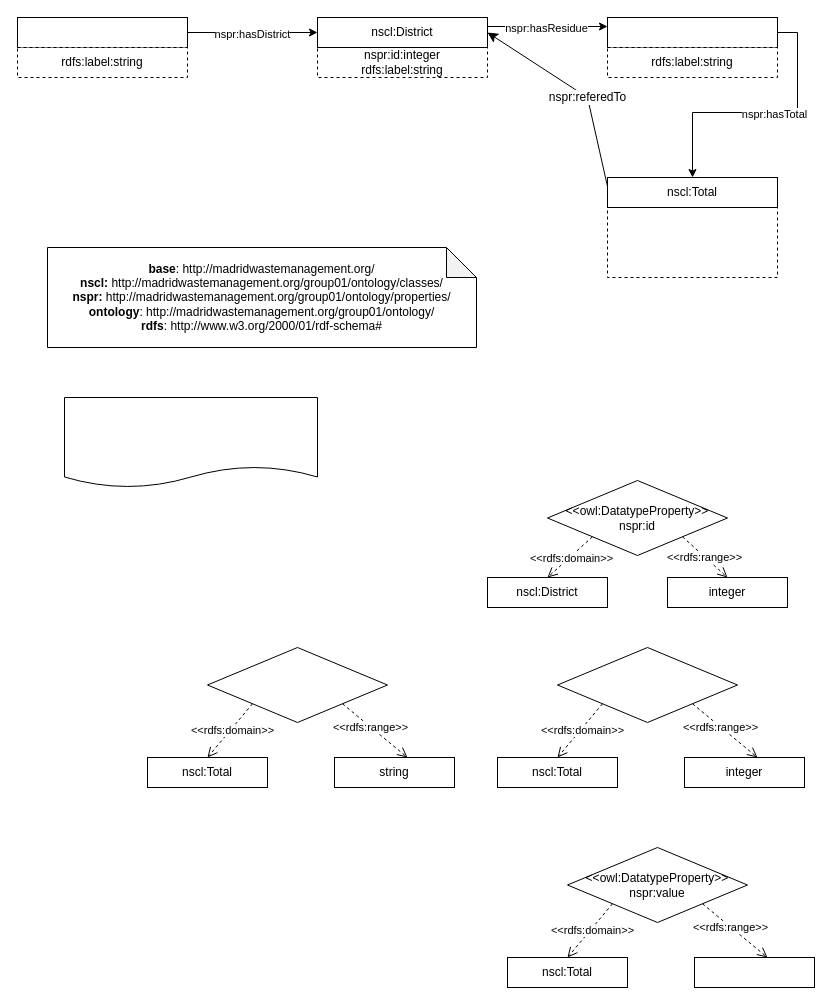
The diagram is 832 pixels wide and 1005 high, and some of its shapes have lost their labels. The shapes that lost their labels are listed below. From the top down, each one's centre as x and y in pixels, then its label:
At point 102,32: "nscl:Zone".
At point 692,32: "nscl:WasteType".
At point 692,242: "nspr:year:integer nspr:month:string nspr:value:float rdfs:label:string".
At point 191,442: "dc:creator: group01 owl:versionInfo: 0.0.1 dc:title: Madrid Waste Management".
At point 297,684: "<<owl:DatatypeProperty>> nspr:month".
At point 647,684: "<<owl:DatatypeProperty>> nspr:year".
At point 754,972: "float".
